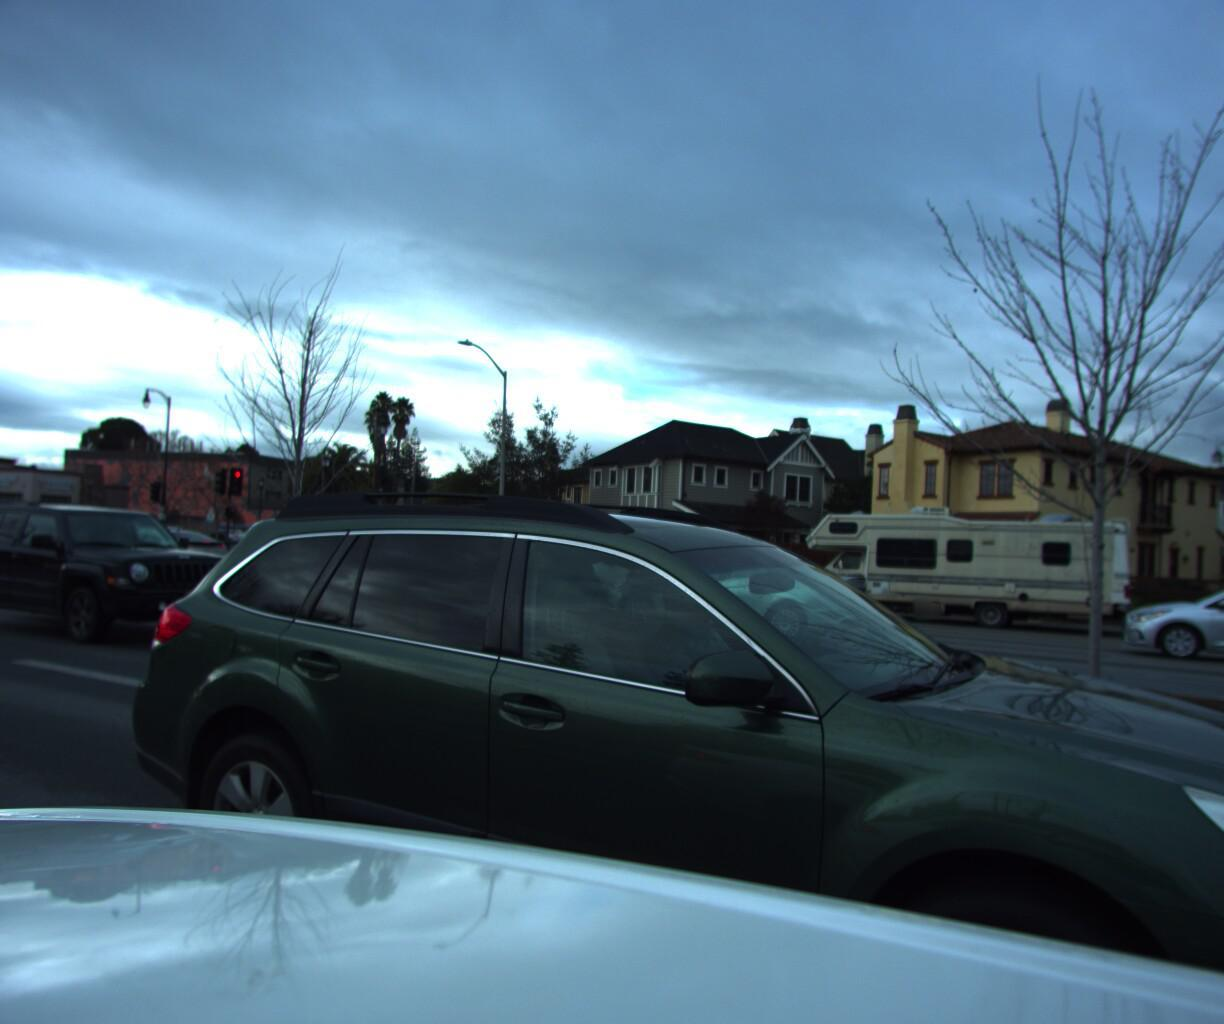car: (95, 396, 1224, 1024), (0, 489, 266, 653), (604, 534, 891, 649), (227, 521, 415, 599), (1118, 571, 1224, 702), (299, 520, 468, 591), (87, 519, 240, 585), (222, 522, 348, 574), (0, 502, 83, 570), (1199, 575, 1224, 666)
other_vehicle: (783, 495, 1135, 637)
